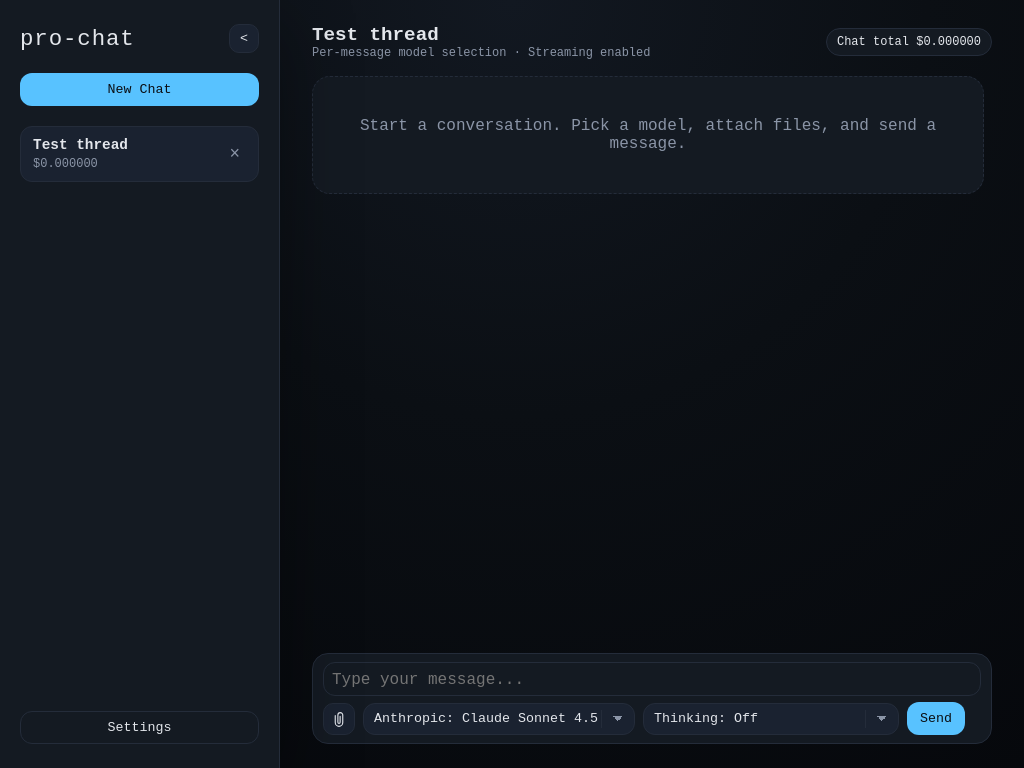
Scenario: App › supports slash command thinking selection
This screenshot has width=1024, height=768.
Expected: the dropdown named "Thinking selector" is shown, [643,702,899,734]
Type "/thinking low" into the text box with placeholder "Type your message..." at (652, 679), box [323,662,981,696]
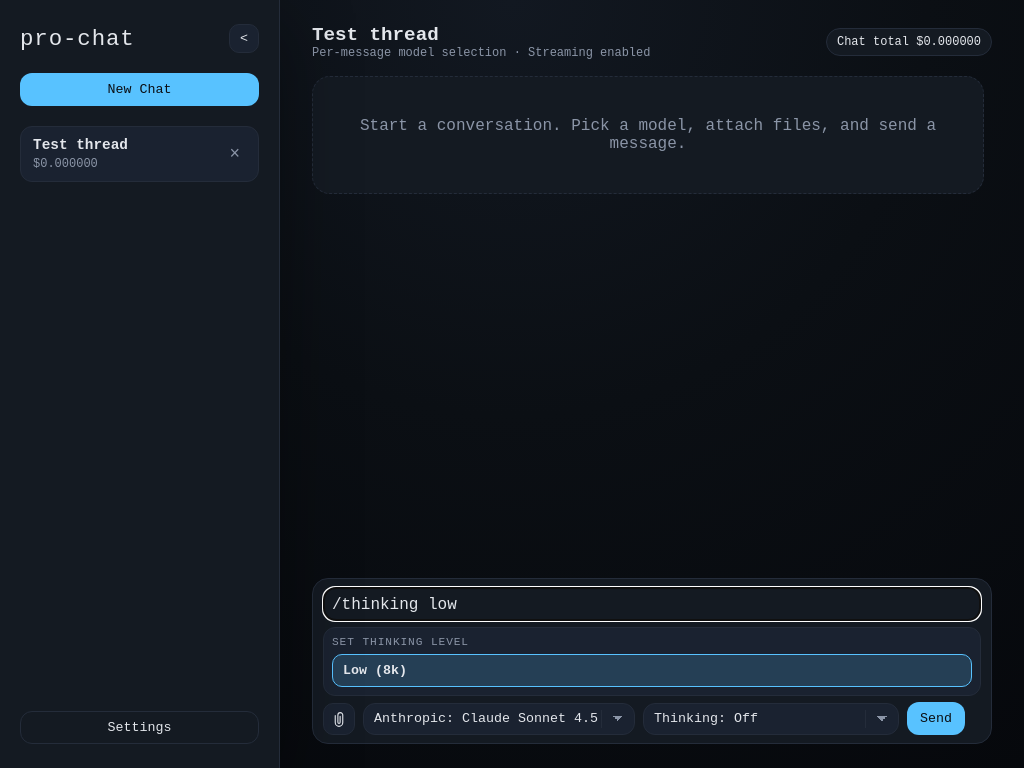
Press Enter
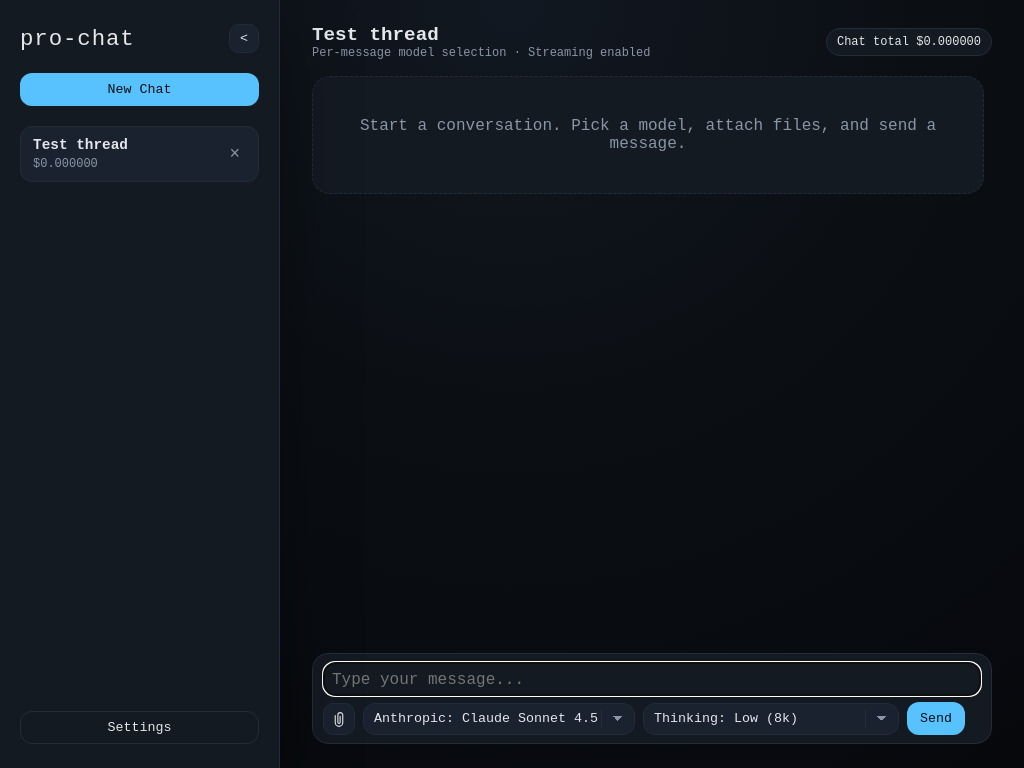
Now the dropdown named "Thinking selector" shows "Thinking: Low (8k)", box [643,702,899,734]
Now the text box with placeholder "Type your message..." is empty, box [323,662,981,696]
